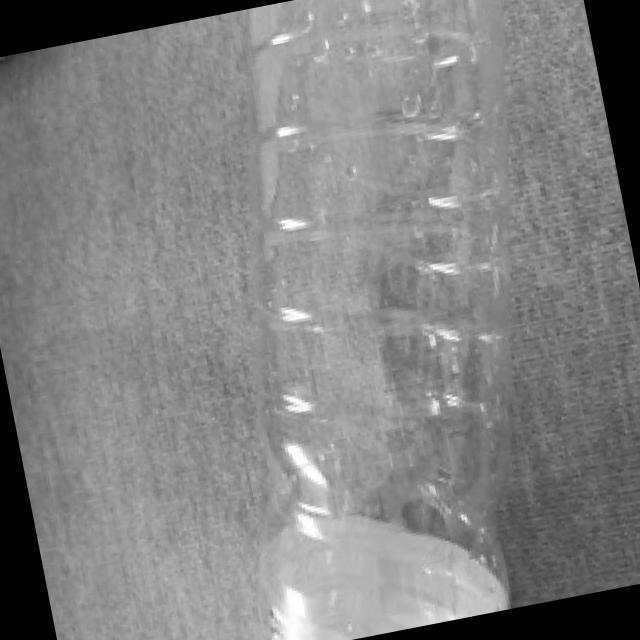good: (128, 0, 630, 640)
